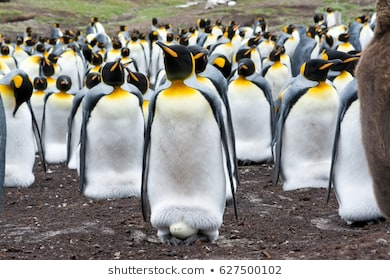penguin: (140, 35, 240, 248), (75, 51, 148, 199), (281, 50, 348, 204), (227, 55, 284, 170)
